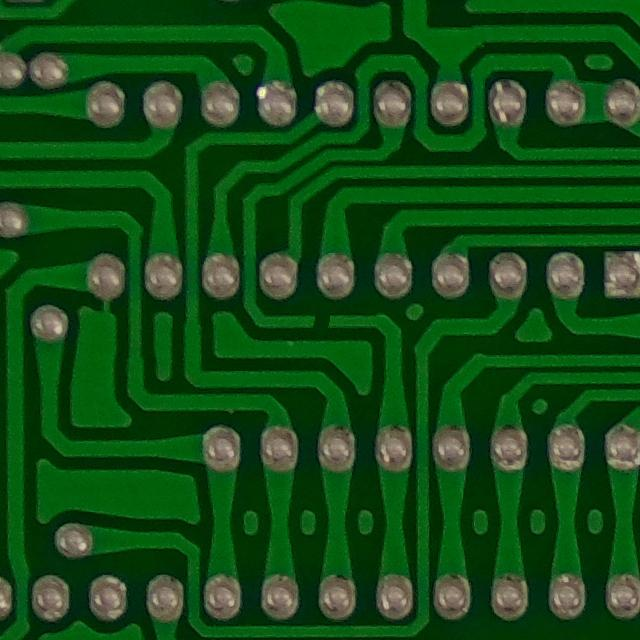open_circuit: (302, 304, 338, 337)
